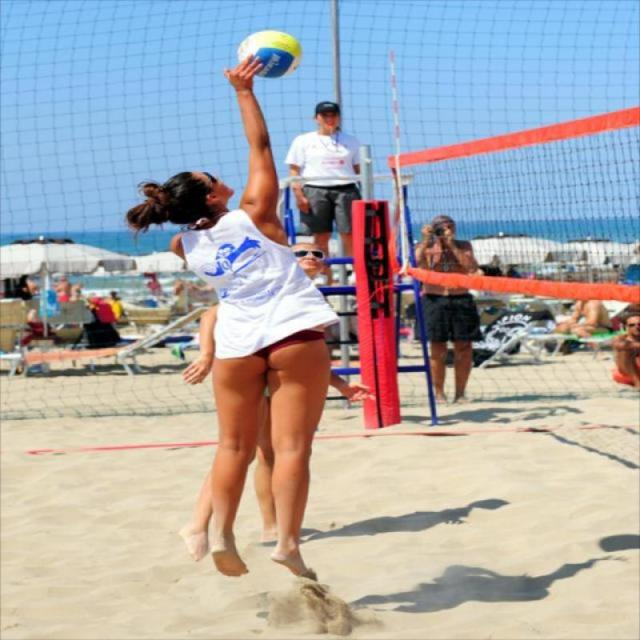volleyball: (236, 27, 304, 78)
